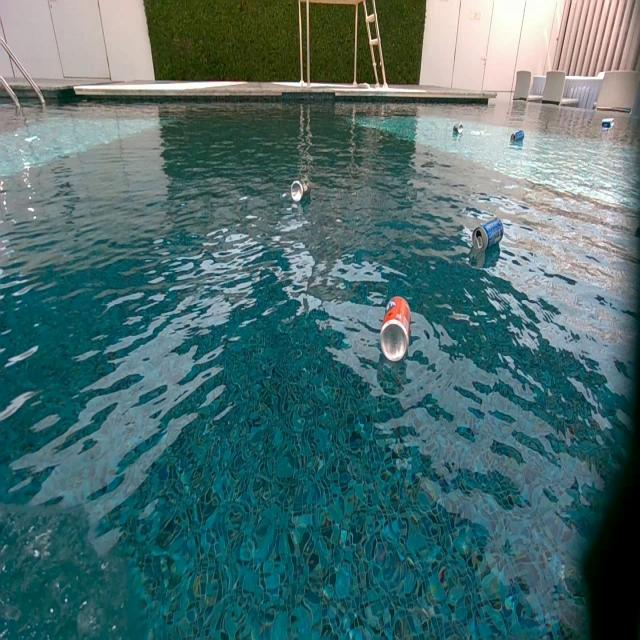Cans: (380, 295, 410, 363), (472, 220, 507, 253), (289, 180, 307, 202), (512, 131, 526, 143), (453, 123, 464, 137), (601, 118, 613, 129)
